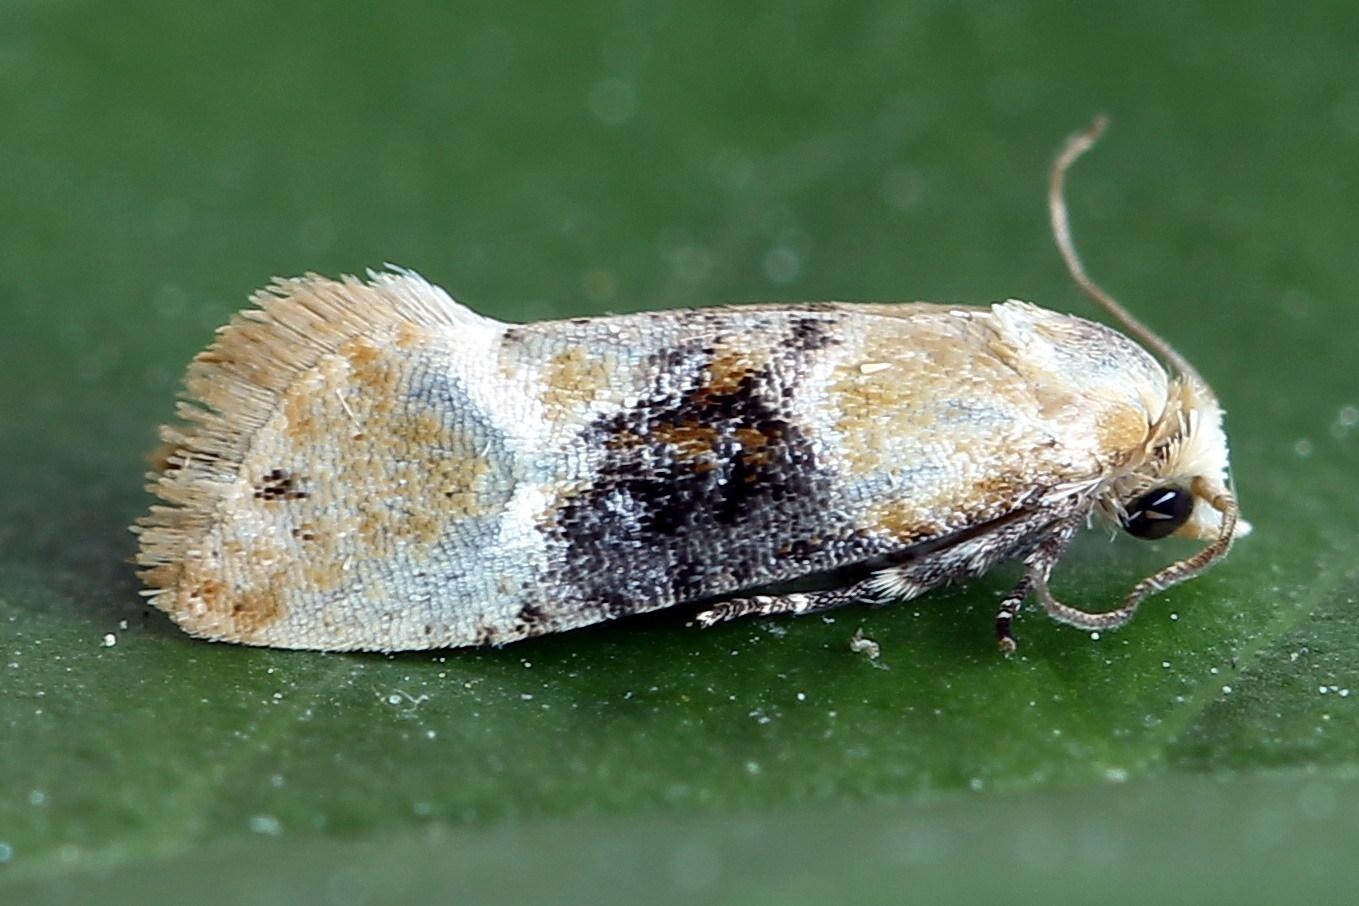Eupoecilia Ambiguella: (127, 117, 1252, 653)
